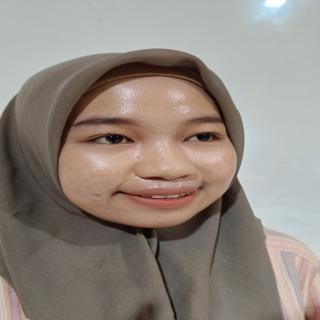Senang: (58, 62, 247, 235)
